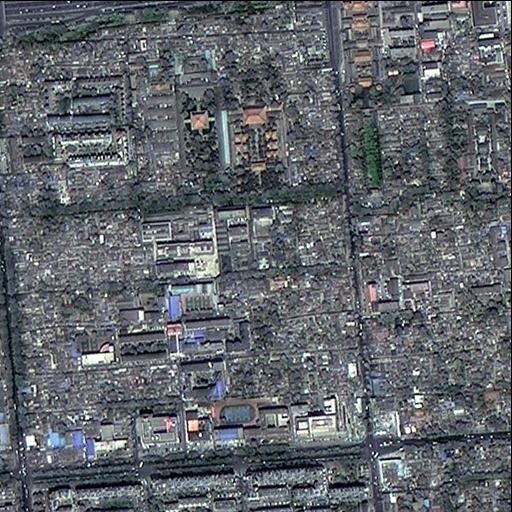school: (213, 394, 292, 443), (167, 280, 222, 323)
